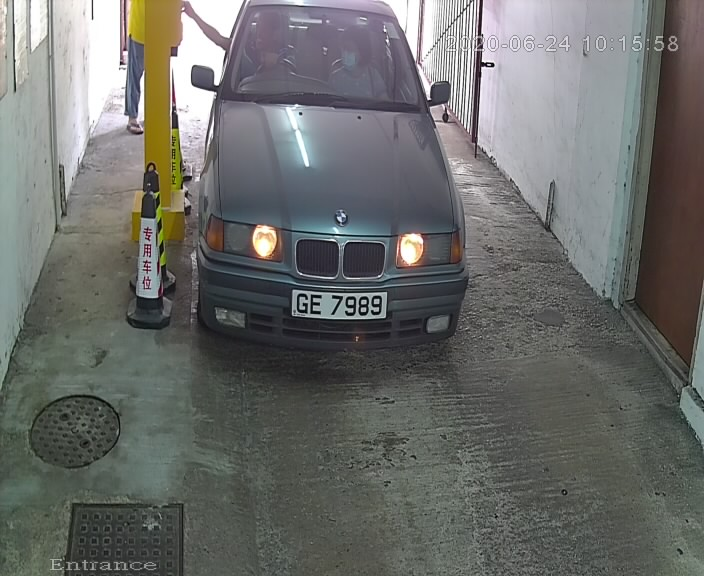Car: (171, 1, 476, 375)
License Plate: (289, 287, 391, 326)
